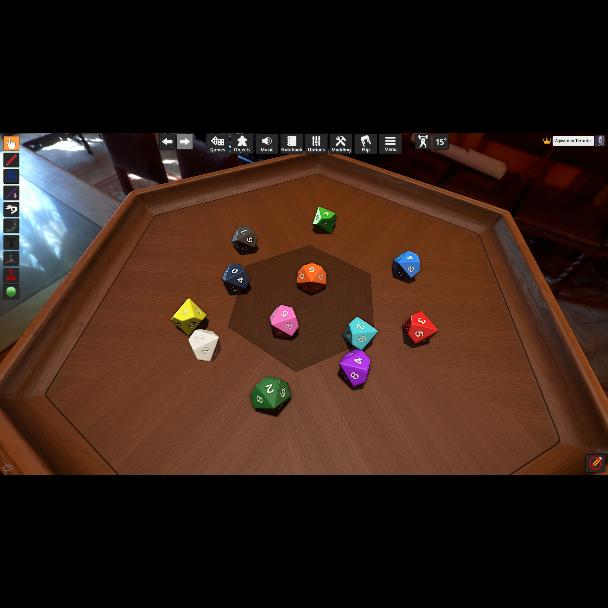d10: (250, 378, 292, 413), (171, 300, 207, 336), (339, 350, 370, 386), (343, 317, 375, 351), (406, 312, 438, 344), (270, 304, 300, 338), (190, 329, 220, 361), (297, 262, 325, 294), (221, 264, 248, 296), (395, 251, 421, 283), (231, 226, 257, 254), (313, 206, 336, 234)
